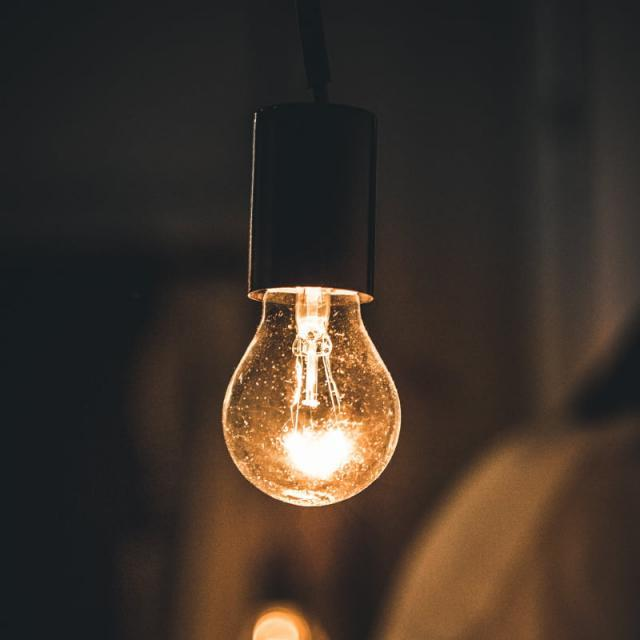light_bulb: (182, 86, 442, 518)
